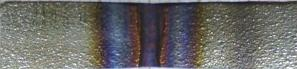soldas: (91, 3, 203, 68)
